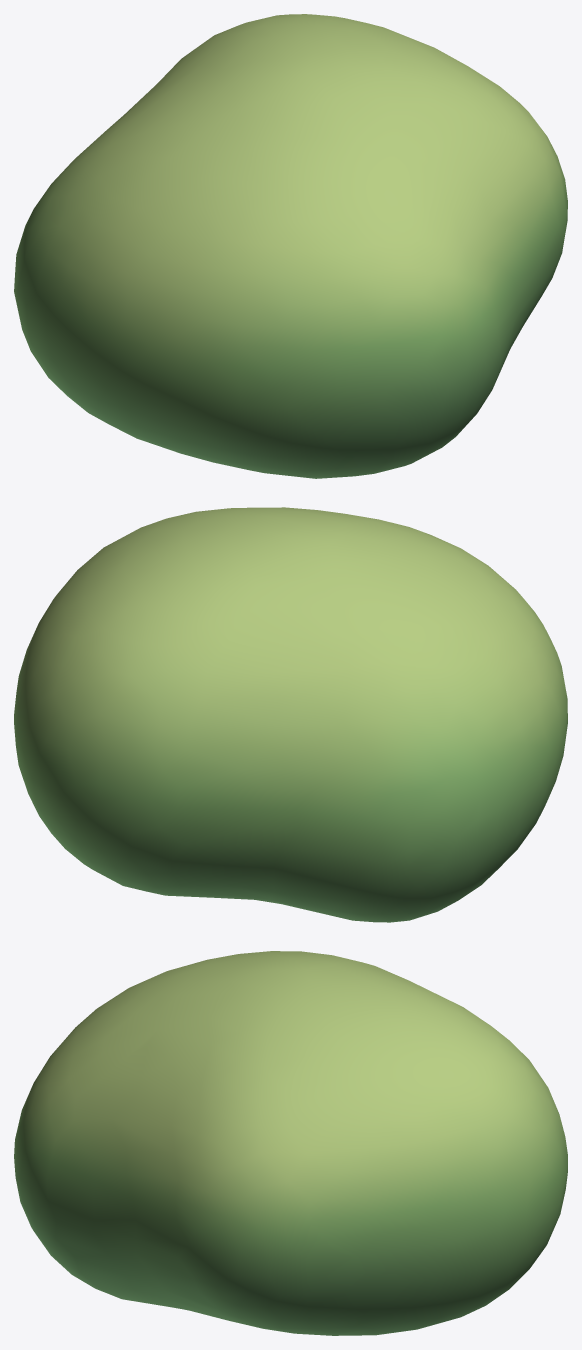
The model's file is Bush_2.fbx.
3 views of the same model, one above another, from view 1: azimuth 30°, elevation 25°; view 2: azimuth 150°, elevation 25°; view 3: azimuth 270°, elevation 25° (orthographic). The views are drawn at different scales.
Visible parts, largest first — view 1: Bush_2; view 2: Bush_2; view 3: Bush_2.
Part boxes in pixels (x1=…): Bush_2: x1=14, y1=14, x2=567, y2=478; Bush_2: x1=14, y1=507, x2=567, y2=922; Bush_2: x1=14, y1=951, x2=567, y2=1335.
Size of the model in its own units: 1.83 by 1.24 by 1.88.
